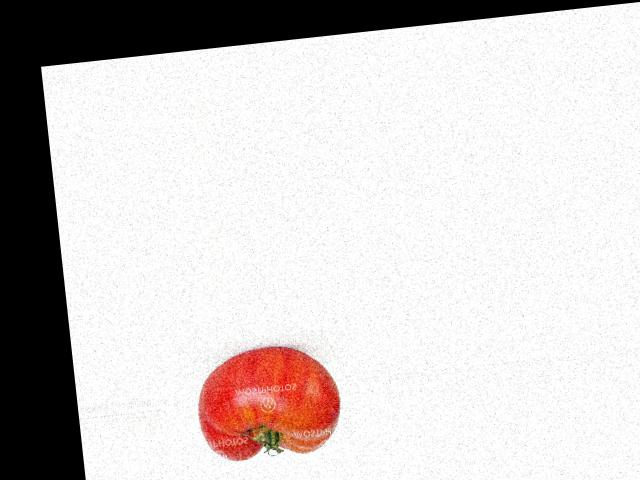tomato: (193, 340, 345, 464)
